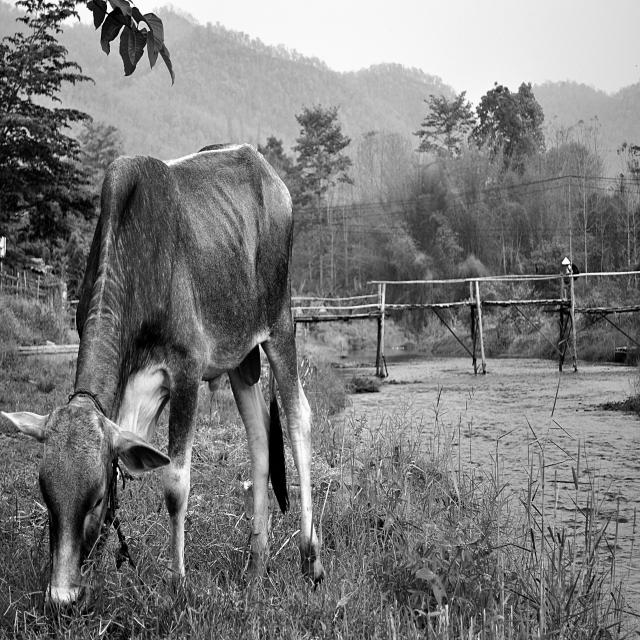cow: (6, 145, 324, 604)
